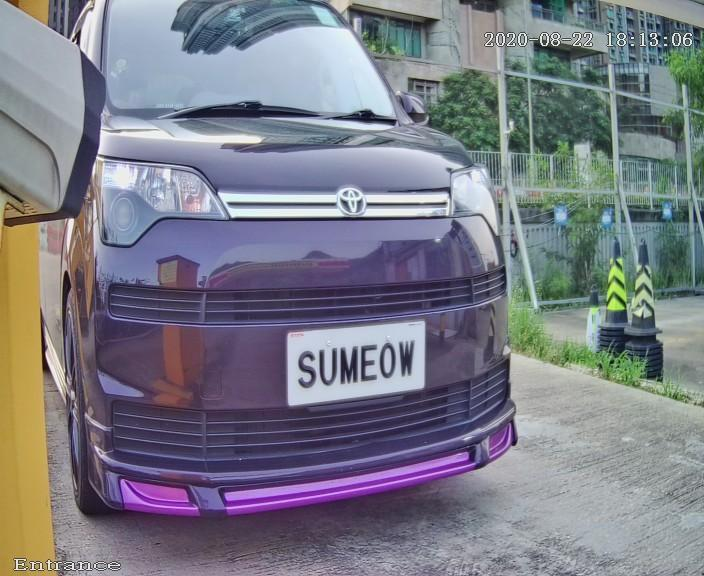License Plate: (280, 314, 428, 415)
